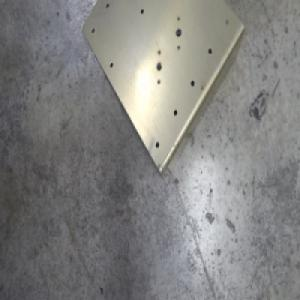MetalSheet: (80, 0, 244, 179)
